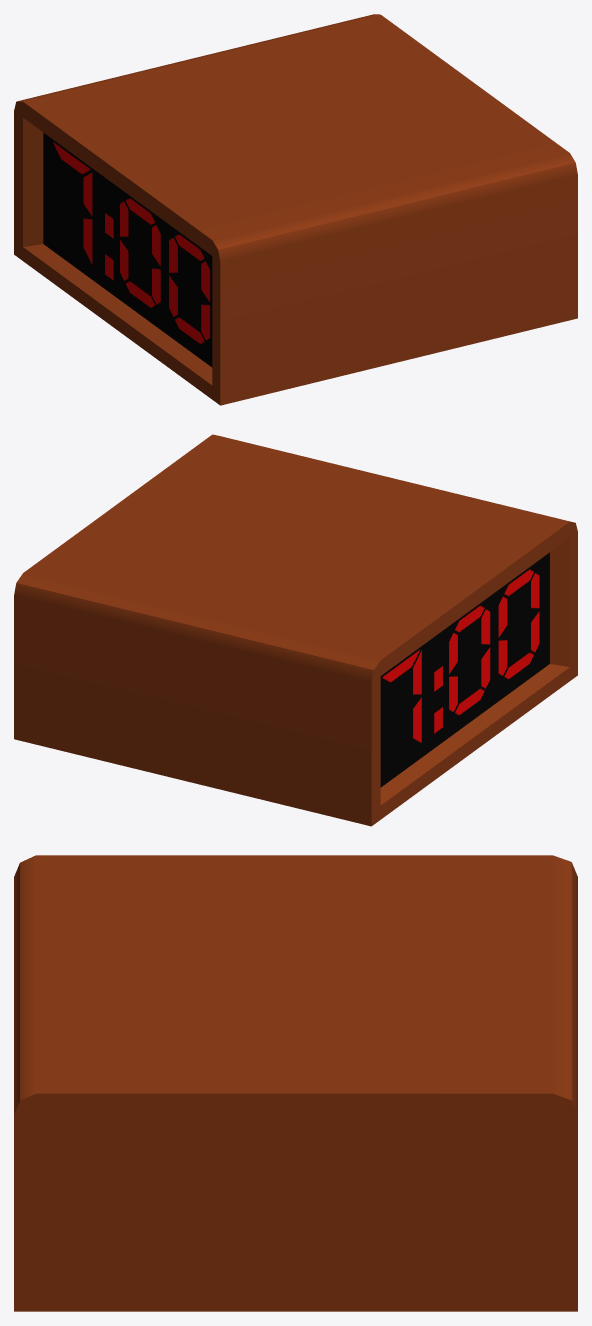
File: AlarmClock.fbx
3 views of the same model, one above another, from view 1: azimuth 30°, elevation 25°; view 2: azimuth 150°, elevation 25°; view 3: azimuth 270°, elevation 25° (orthographic). The views are drawn at different scales.
Visible parts, largest first — view 1: polySurface1; view 2: polySurface1; view 3: polySurface1.
Boxes of the visible parts, <box> form: polySurface1: <box>14,14,577,405</box>; polySurface1: <box>14,434,577,826</box>; polySurface1: <box>14,855,577,1311</box>.
Size of the model in its own units: 35.76 by 15.25 by 35.76.
